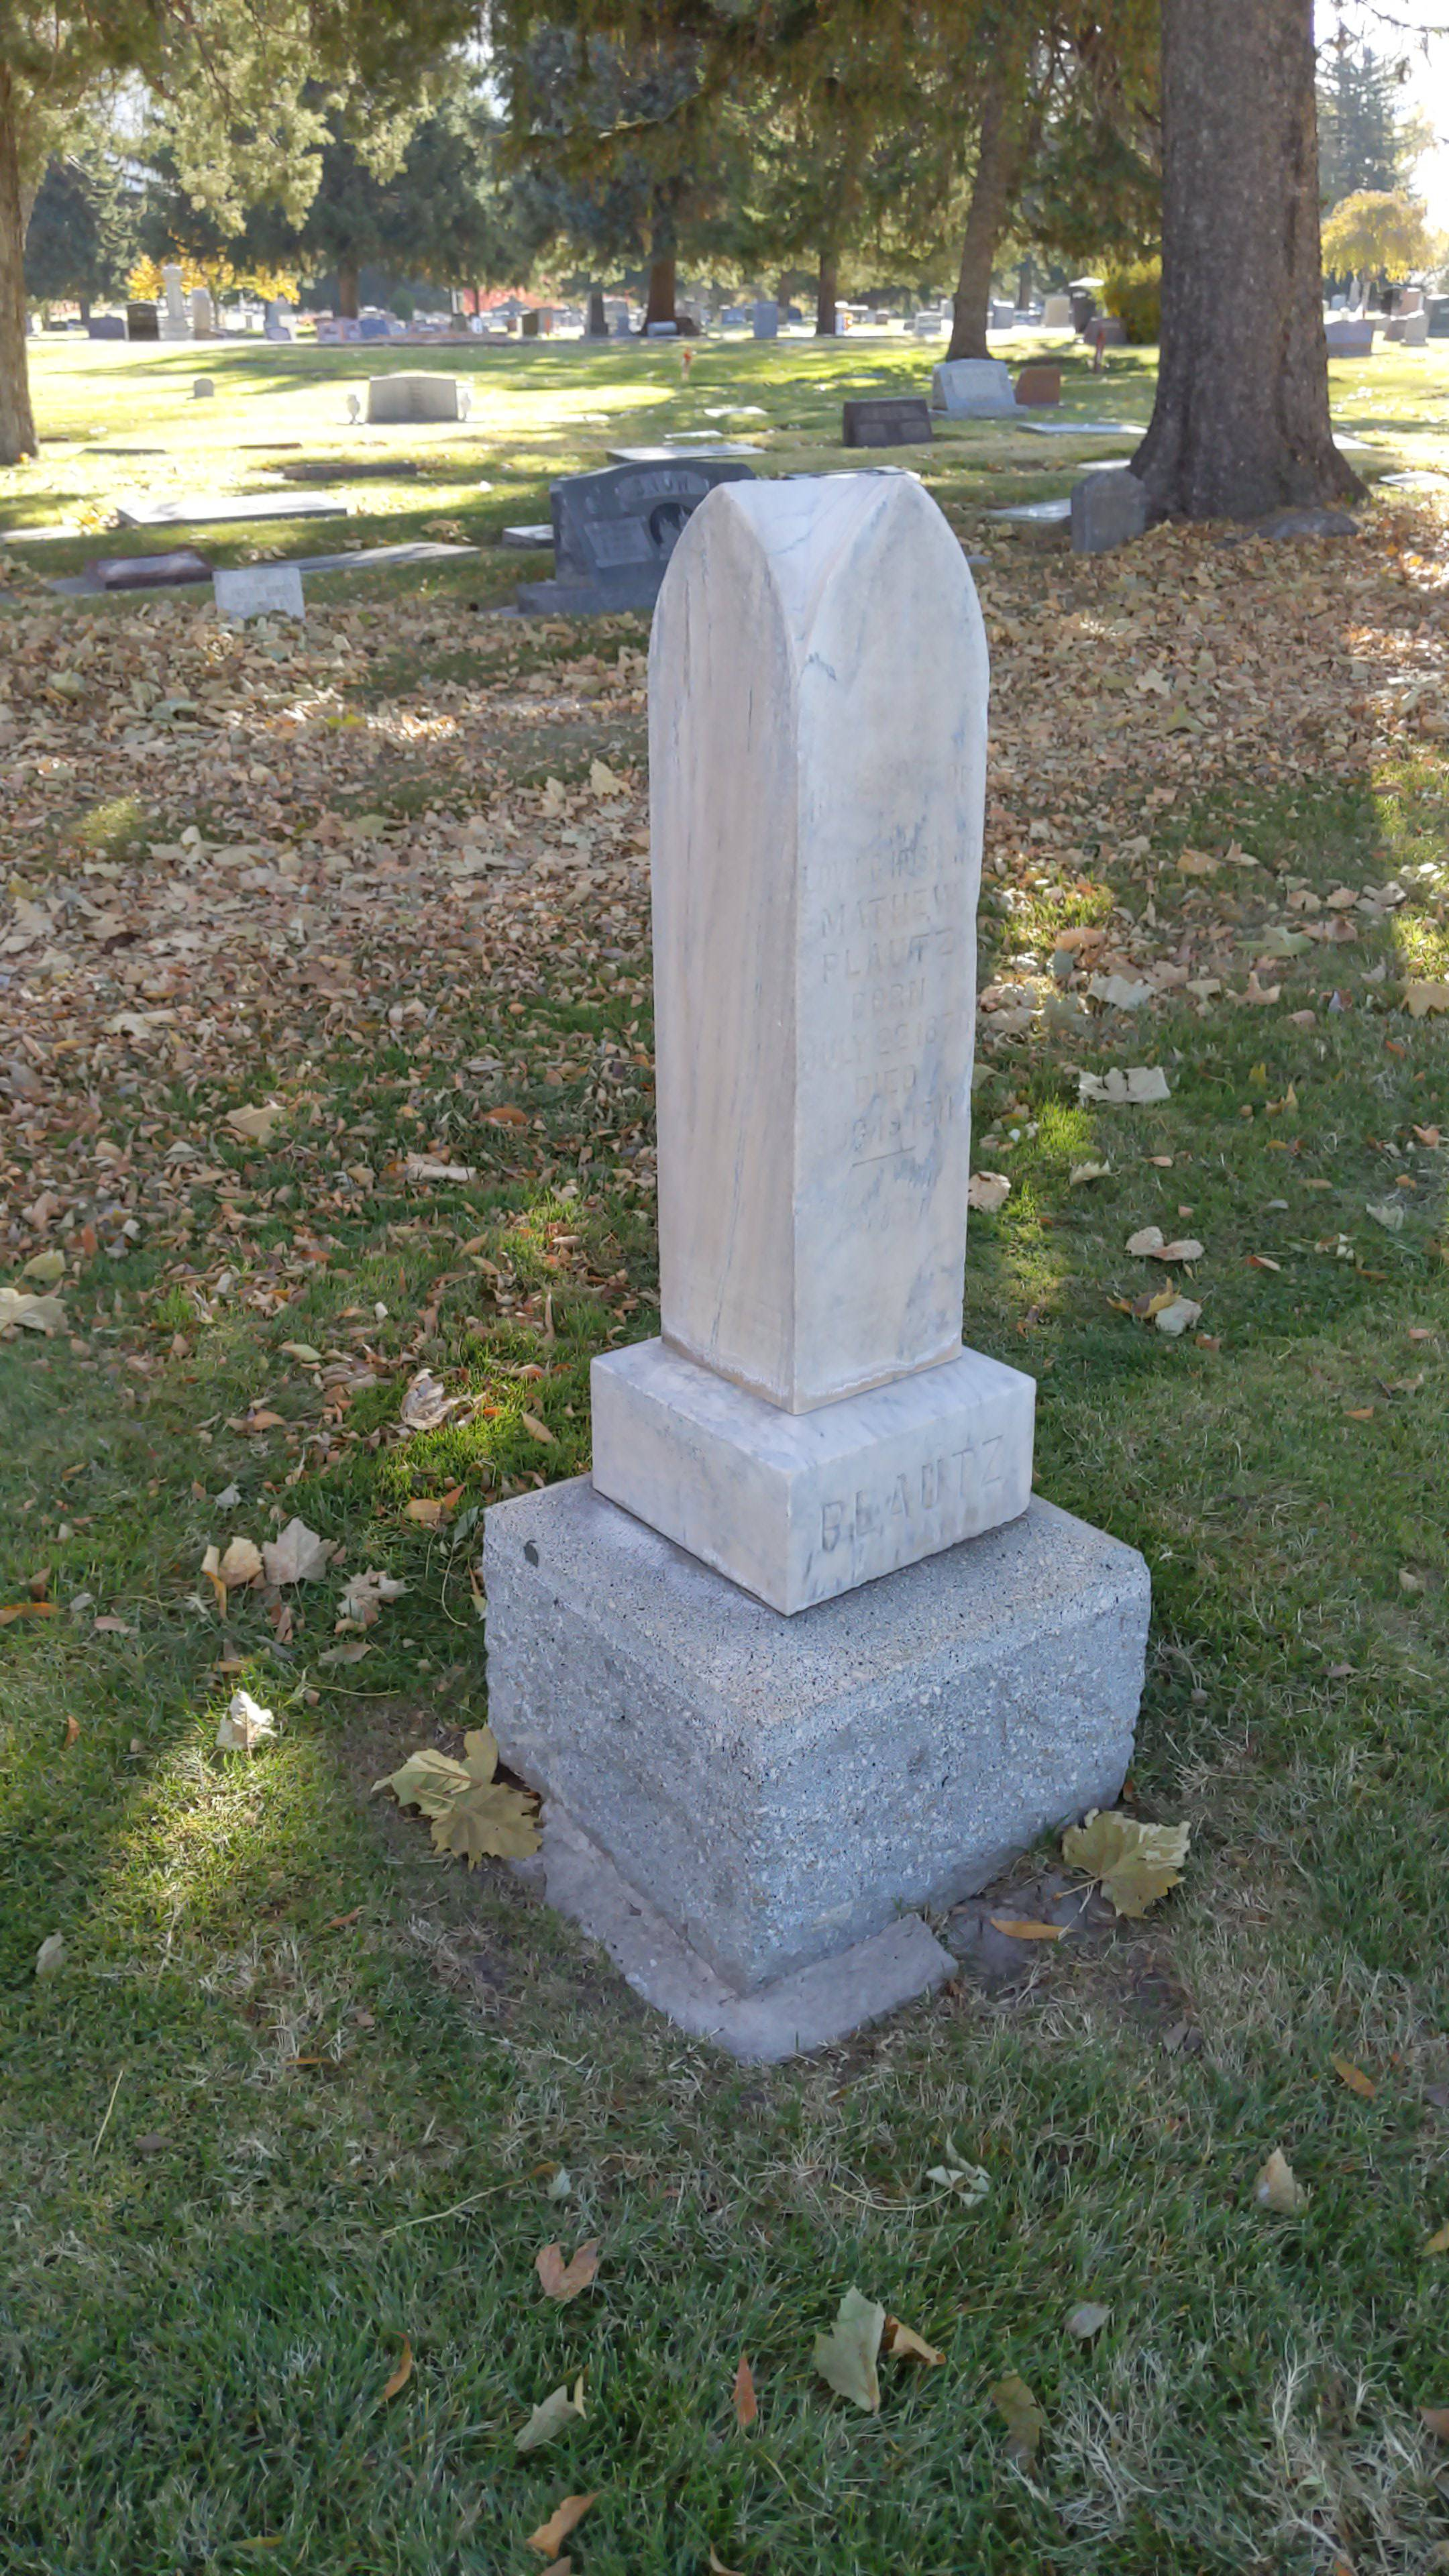obelisk: (579, 478, 1030, 1598)
